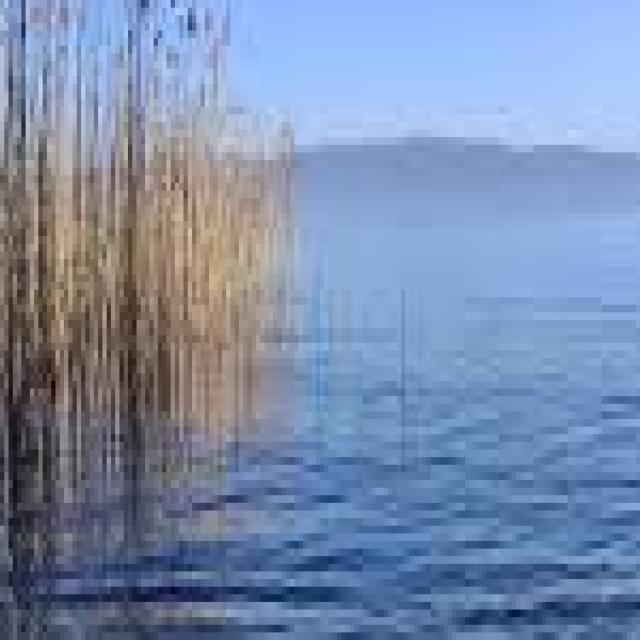-: (397, 213, 640, 640)
